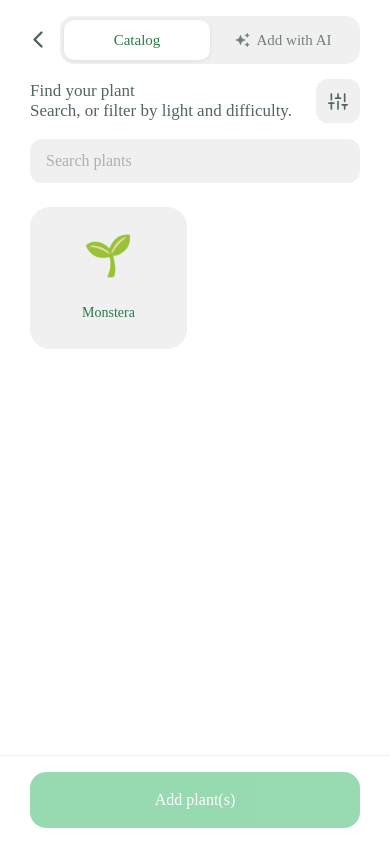
Scenario: PlantSelect › keeps the add button in place but off until a plant is picked
Expected: the button "Add plant(s)" is shown, [30,772,360,828]
Expected: the text "Clear" is not shown
Click the text "Monstera" at [108, 312], box [82,305,135,320]
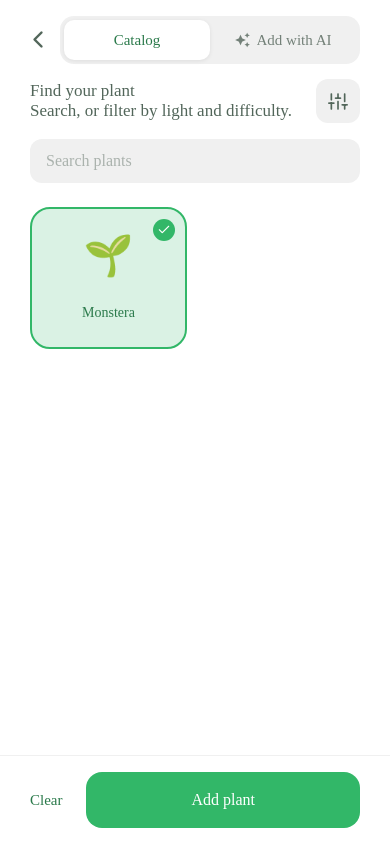
Expected: the button "Add plant" is shown, [86,772,360,828]
Now the text "Clear" is shown, box [30,792,62,808]
